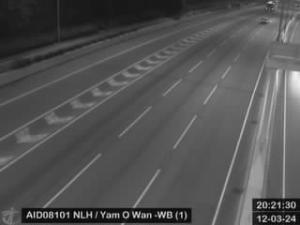vehicle: (266, 3, 274, 11), (260, 18, 268, 24)
